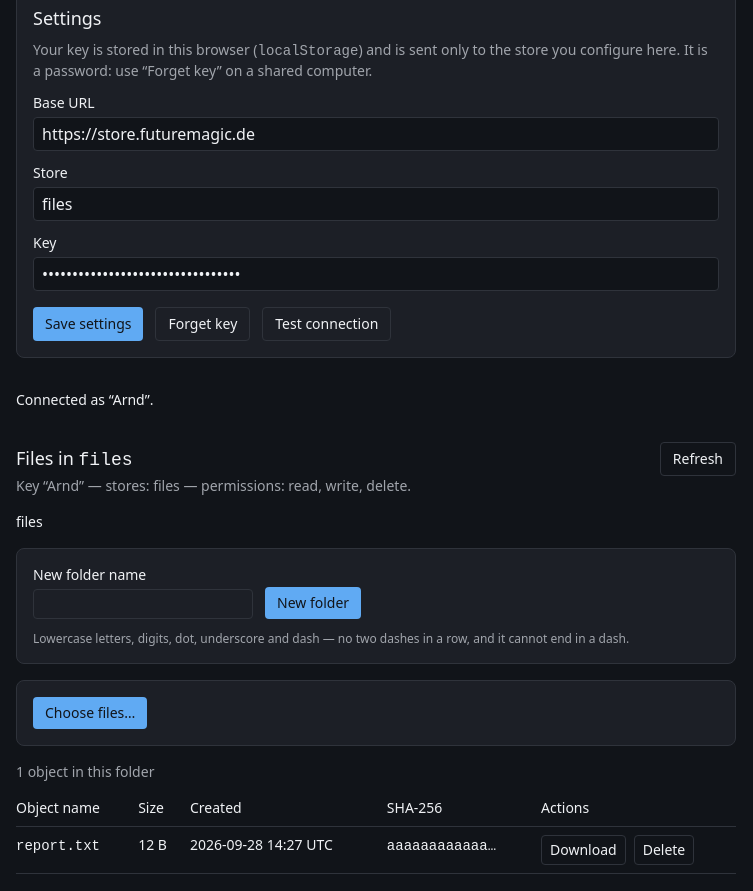
Test case: a delete asks first, and a CANCELLED confirmation issues no request and no toast
(page scrolled)
Expected: the button "Choose files…" is shown, [33,697,147,729]
Click the button "Delete".
click(664, 850)  # box [634,835,694,865]
(page scrolled)
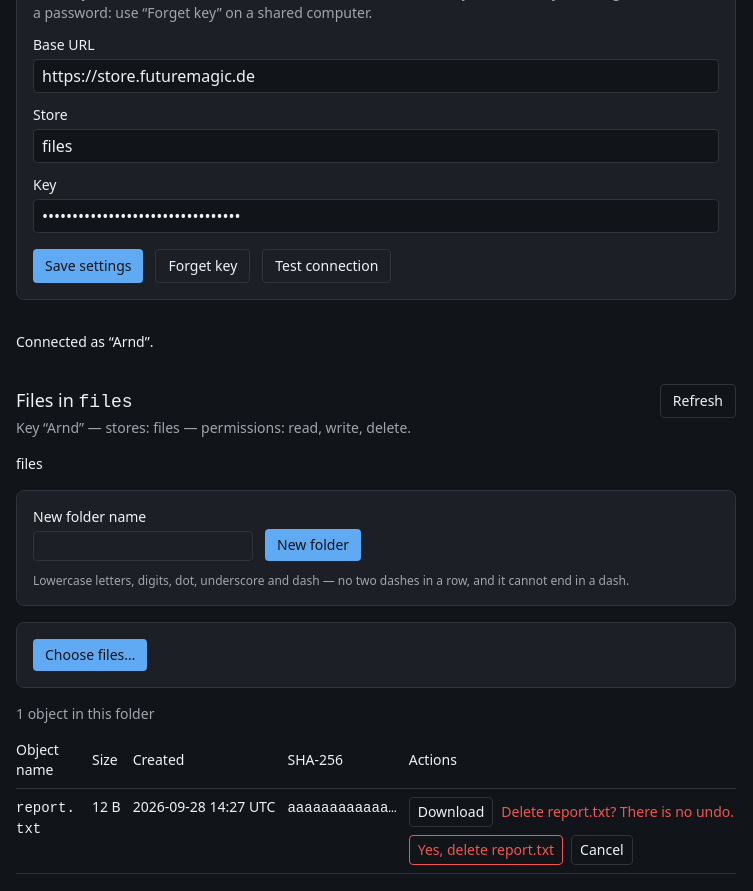
Now the text "Delete report.txt? There is no undo." is shown, box [501,802,734,822]
Click the button "Cancel".
click(602, 850)  # box [571,835,633,865]
(page scrolled)
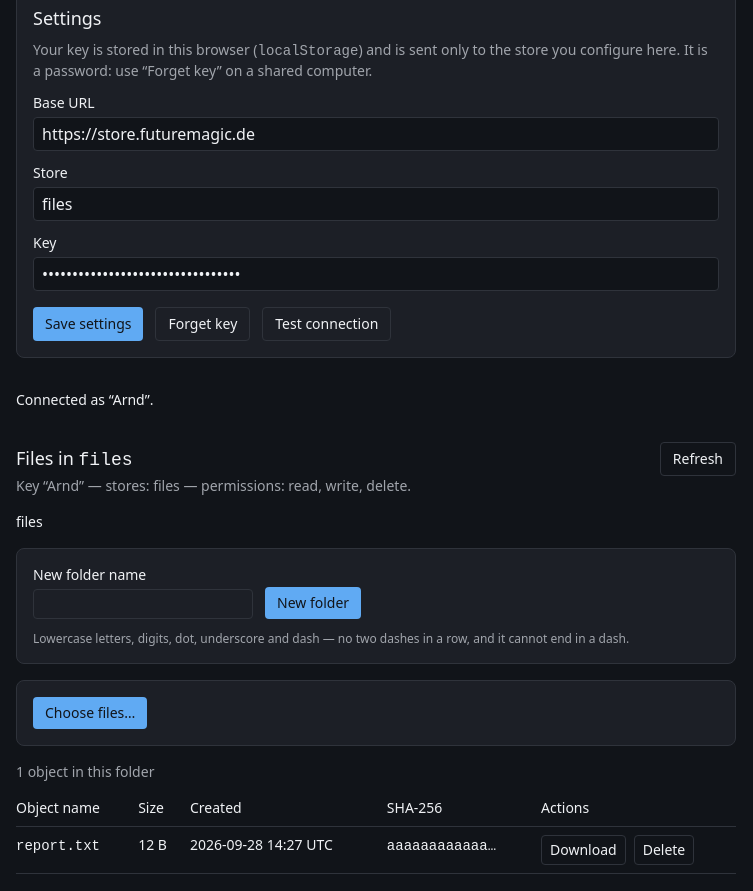
Now the text "Delete report.txt?" is gone
